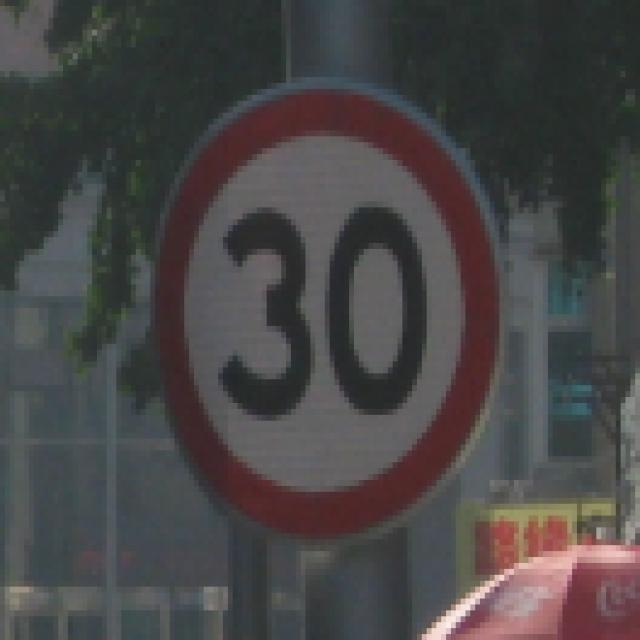Speed: (149, 76, 519, 552)
